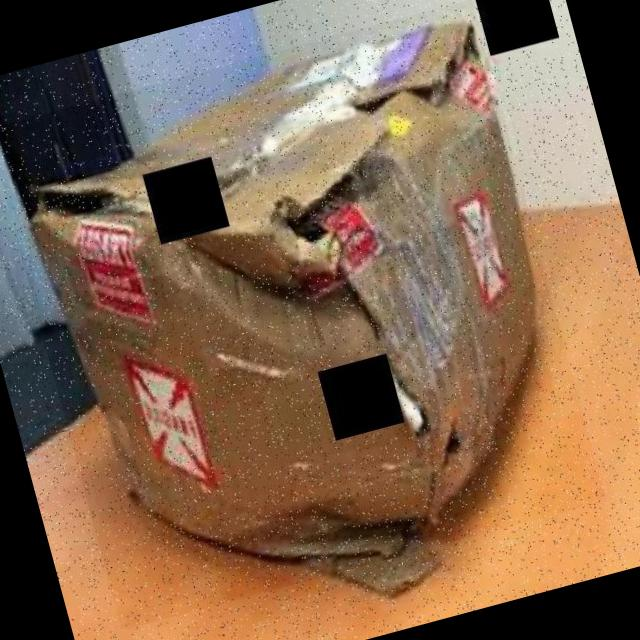box: (0, 0, 606, 630)
